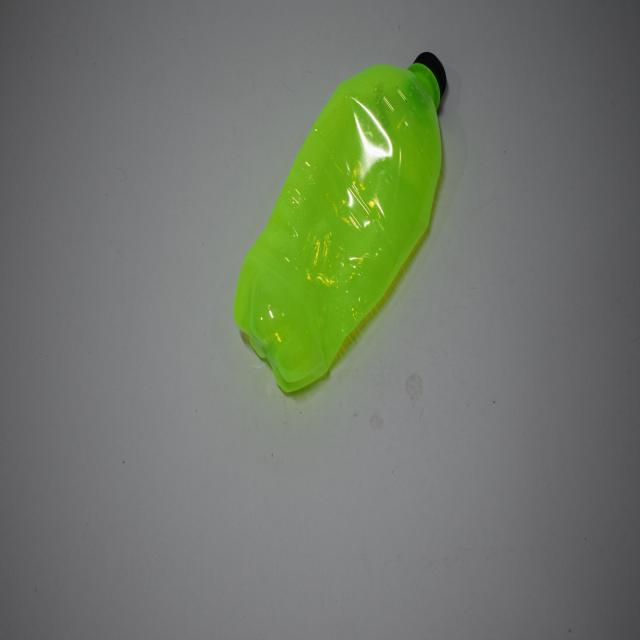bottle: (226, 49, 476, 417)
